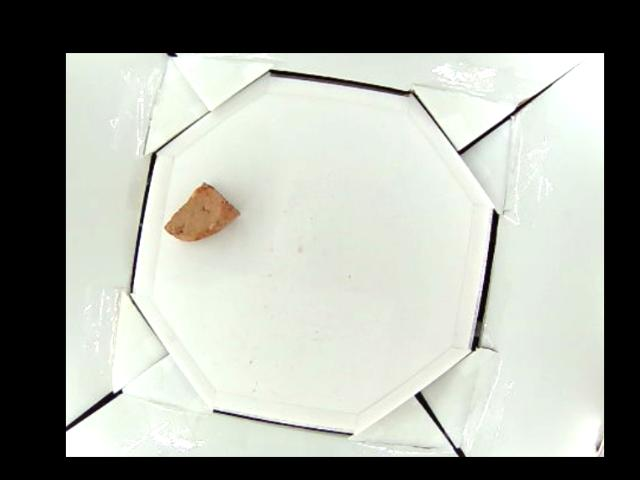Brisk: (163, 183, 240, 241)
